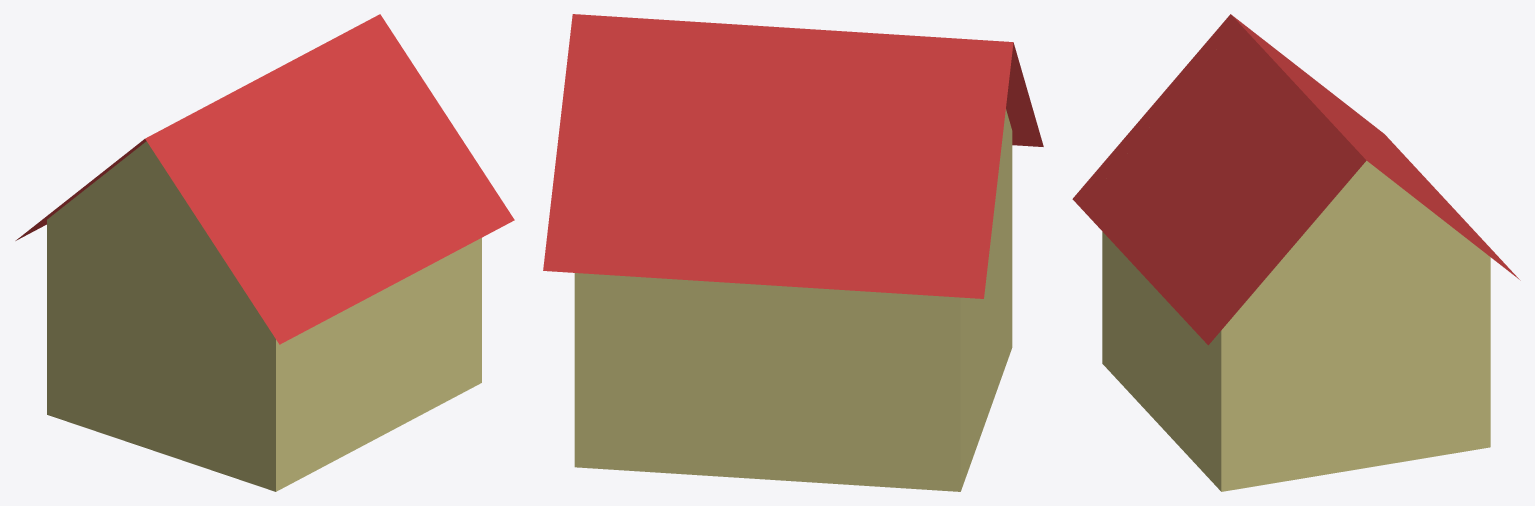
The picture shows the model from 3 angles, left to right: view 1: azimuth 30°, elevation 25°; view 2: azimuth 150°, elevation 25°; view 3: azimuth 270°, elevation 25°; orthographic projection. The views are drawn at different scales.
Bounding box in the file's own units: 15.23 × 14.55 × 11.39.
